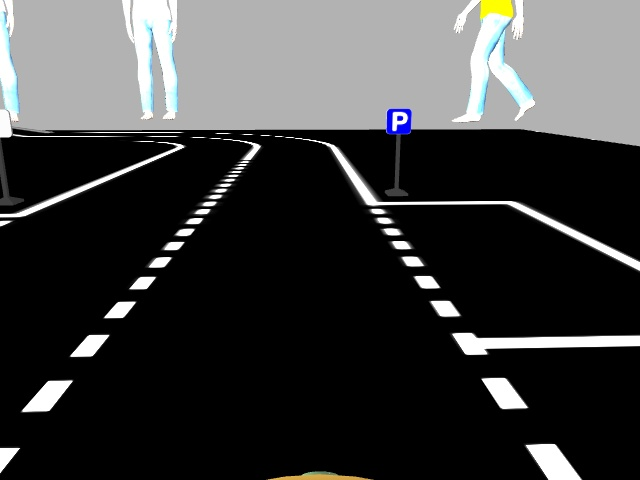Parking: (383, 108, 413, 135)
